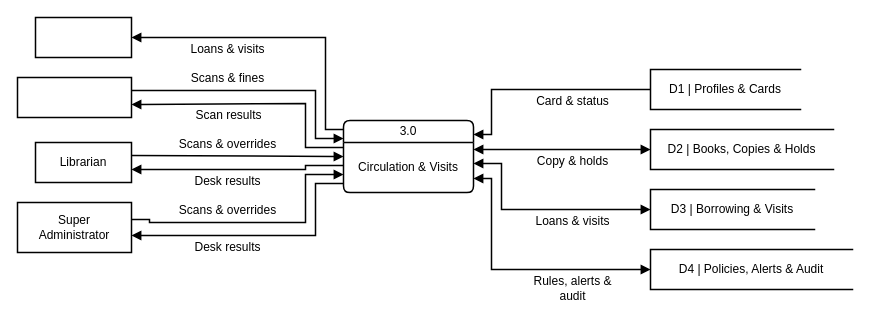
The diagram is 871 pixels wide and 321 high, and some of its shapes have lost their labels. The centre of each missing label's shape, as x and y in pixels:
"Library Staff" belongs at point 74,97.
"Patron" belongs at point 83,37.
